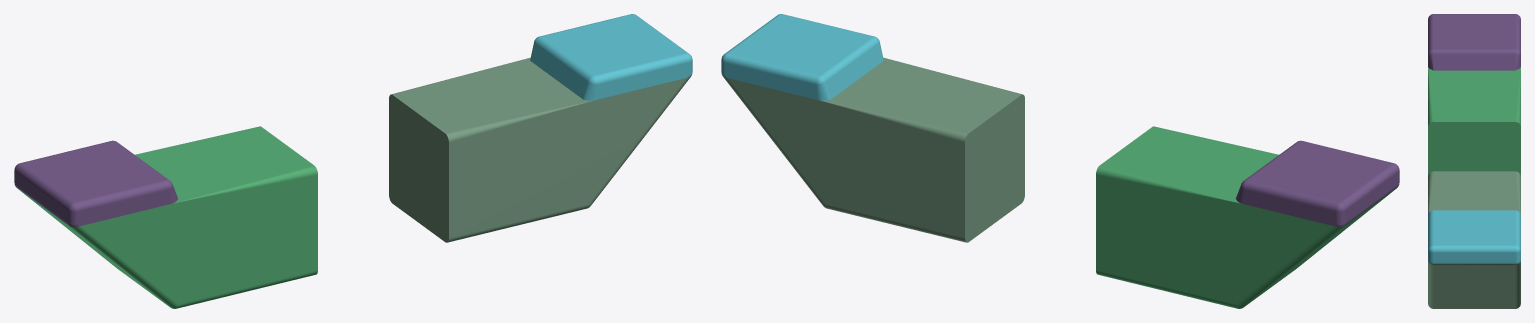
The model's file is 0_body.obj.
The picture shows the model from 3 angles, left to right: view 1: azimuth 30°, elevation 25°; view 2: azimuth 150°, elevation 25°; view 3: azimuth 270°, elevation 25°; orthographic projection. The views are drawn at different scales.
Parts seen in each view (by area): view 1: geometry_0, geometry_3, geometry_2, geometry_1; view 2: geometry_0, geometry_3, geometry_2, geometry_1; view 3: geometry_3, geometry_0, geometry_1, geometry_2.
Boxes of the visible parts, left/top/right/bottom form: geometry_0: left=389, top=57, right=691, bottom=242; geometry_3: left=16, top=126, right=317, bottom=308; geometry_2: left=530, top=14, right=692, bottom=100; geometry_1: left=14, top=140, right=178, bottom=226; geometry_0: left=722, top=57, right=1024, bottom=242; geometry_3: left=1096, top=126, right=1397, bottom=308; geometry_2: left=721, top=14, right=883, bottom=100; geometry_1: left=1235, top=140, right=1399, bottom=226; geometry_3: left=1428, top=67, right=1520, bottom=175; geometry_0: left=1428, top=171, right=1520, bottom=308; geometry_1: left=1428, top=14, right=1520, bottom=70; geometry_2: left=1428, top=210, right=1520, bottom=263.
Bounding box in the file's own units: 0.2286 × 0.0457 × 0.0381.
